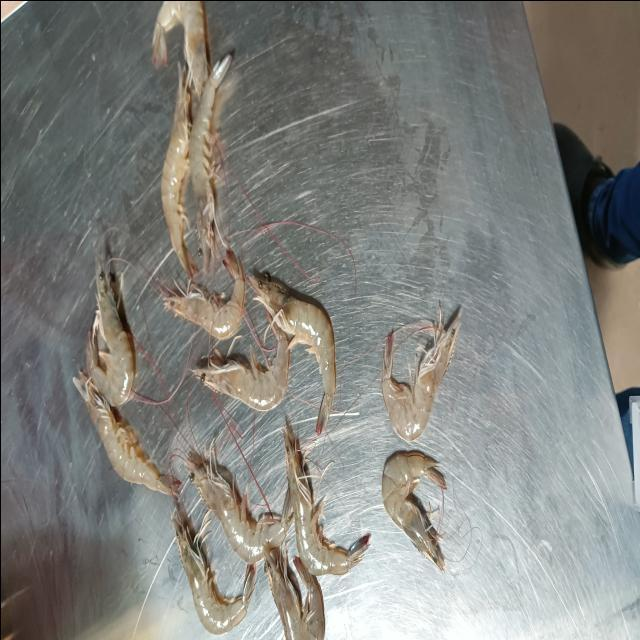shrimp: (249, 277, 335, 434), (72, 370, 180, 494), (282, 423, 369, 576), (185, 441, 292, 563), (381, 308, 461, 441), (171, 507, 255, 633), (188, 53, 231, 273), (192, 323, 289, 410), (160, 62, 198, 279), (159, 248, 245, 339), (381, 452, 445, 571), (86, 261, 135, 405), (264, 545, 324, 640), (151, 0, 210, 95)
